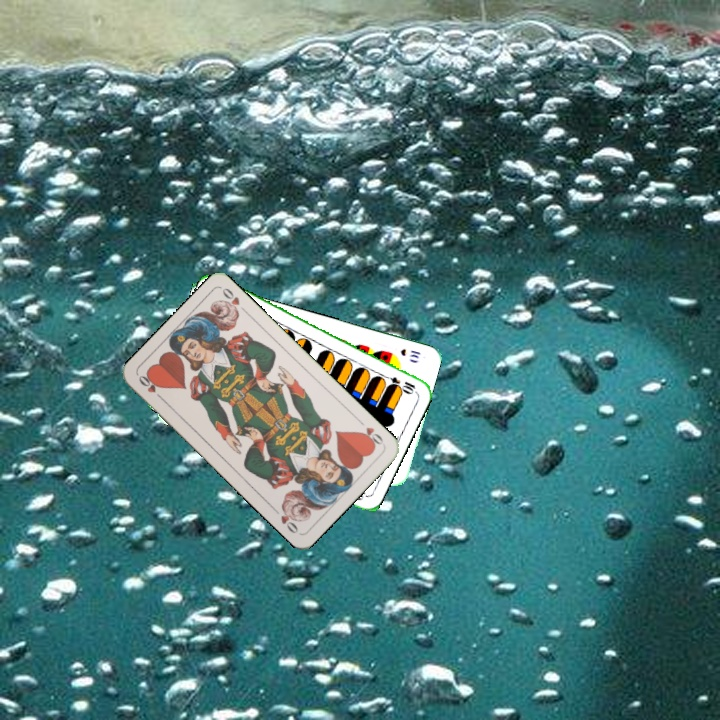E10: (378, 371, 418, 396)
HO: (354, 416, 387, 449), (134, 371, 167, 403)
S10: (396, 345, 423, 361)
